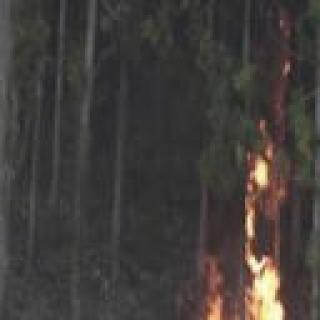fire: (169, 261, 320, 320)
